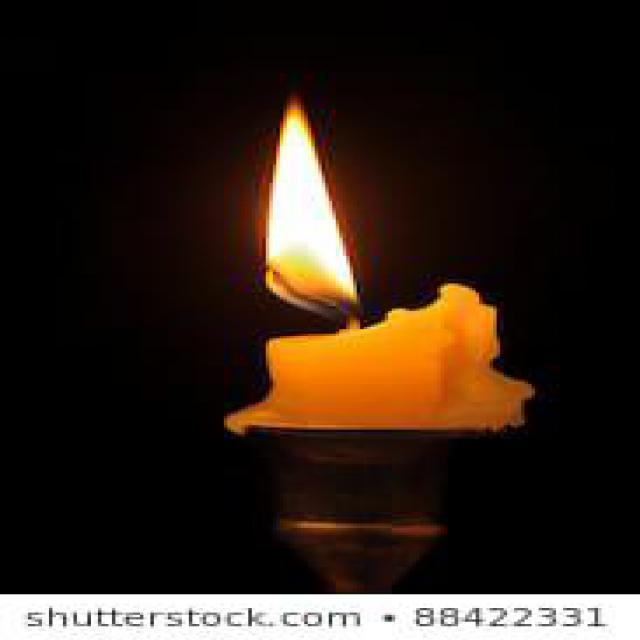Fire: (266, 100, 357, 318)
